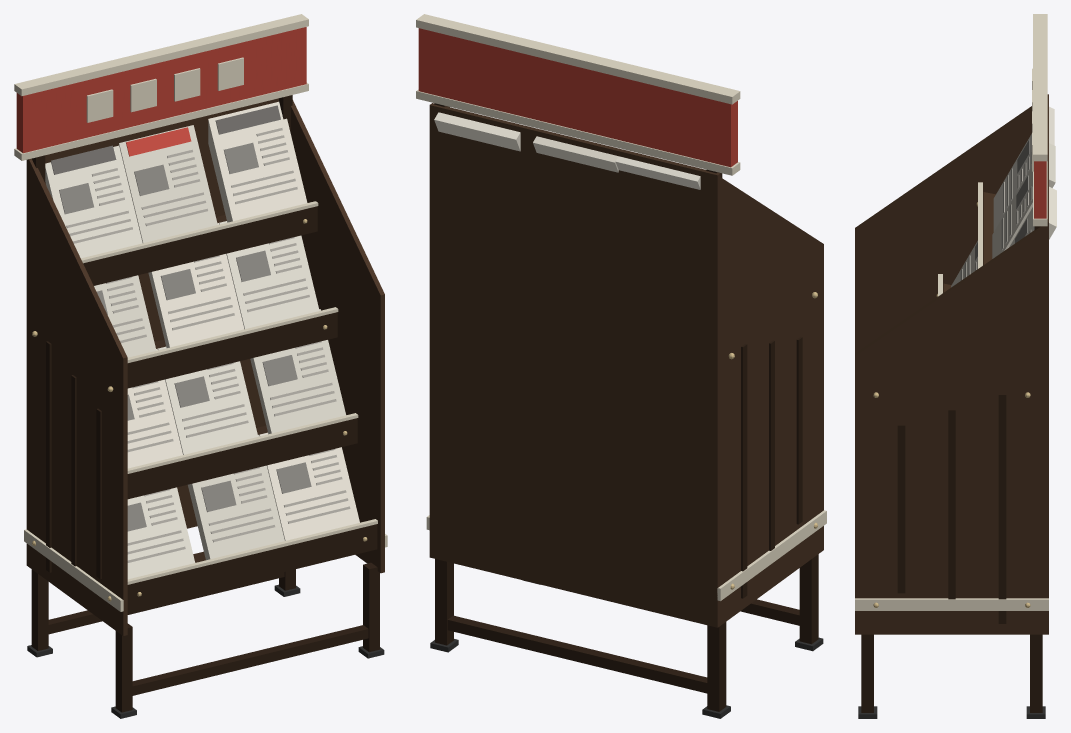
Rendered from news_rack_6080.glb.
3 renders of one model, left to right at view 1: azimuth 30°, elevation 25°; view 2: azimuth 150°, elevation 25°; view 3: azimuth 270°, elevation 25°, orthographic. The views are drawn at different scales.
Parts seen in each view (by area): view 1: news_rack_6080; view 2: news_rack_6080; view 3: news_rack_6080.
Part boxes in pixels (bbox=[...]): news_rack_6080: bbox=[14, 14, 387, 718]; news_rack_6080: bbox=[416, 14, 826, 718]; news_rack_6080: bbox=[855, 14, 1056, 718].
Bounding box in the file's own units: 0.79 × 1.49 × 0.4791.
